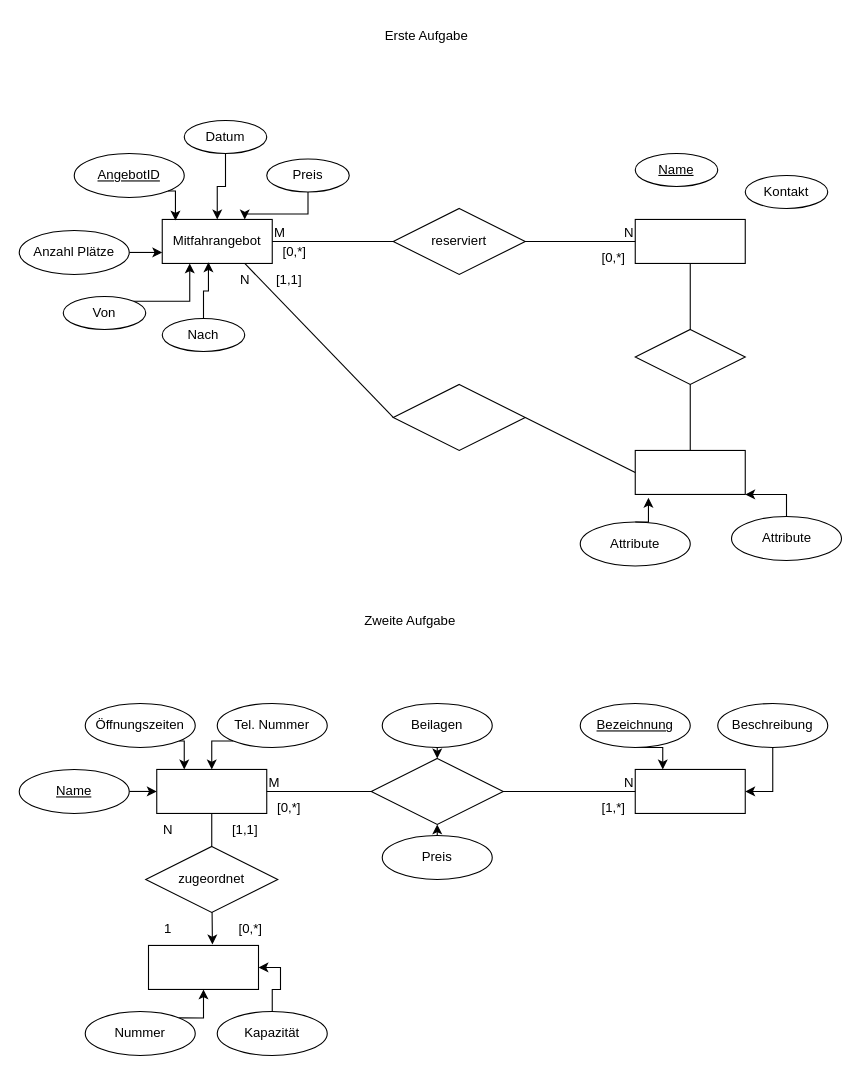
This 861x1075 diagram has some shape labels left out. The shapes that lost their labels are listed below. From the top down, each one's centre as x and y in pixels, then its label:
At point (689, 240): "Nutzer".
At point (689, 356): "IST".
At point (458, 416): "fährt".
At point (689, 471): "Fahrer".
At point (211, 790): "Restaurant".
At point (436, 790): "bietet an".
At point (689, 790): "Spezialitäten".
At point (202, 966): "Parkplätze".
